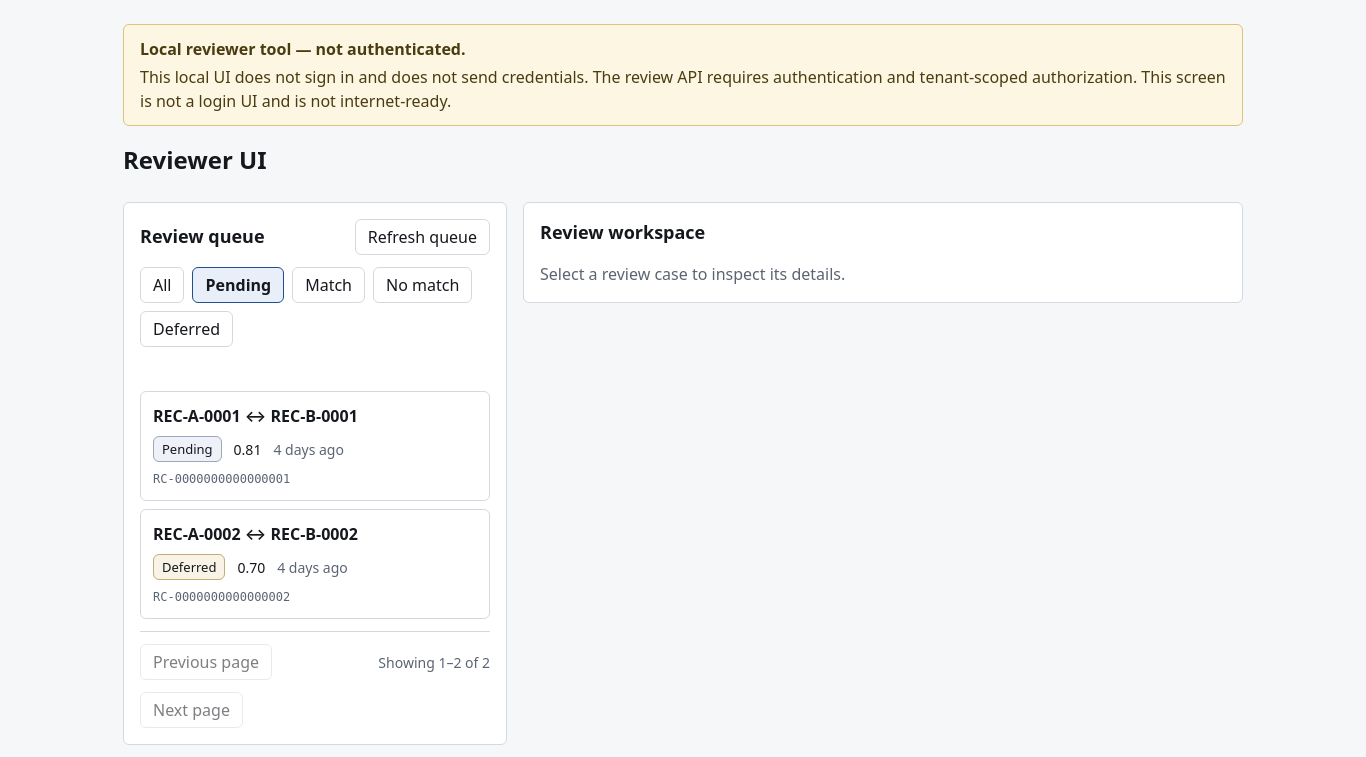
Test: selecting a case › replaces the workspace when another row is activated
Expected: the list is shown, [140, 391, 490, 619]
Click the button that starts with "REC-A-0001" at [315, 446], box [140, 391, 490, 501]
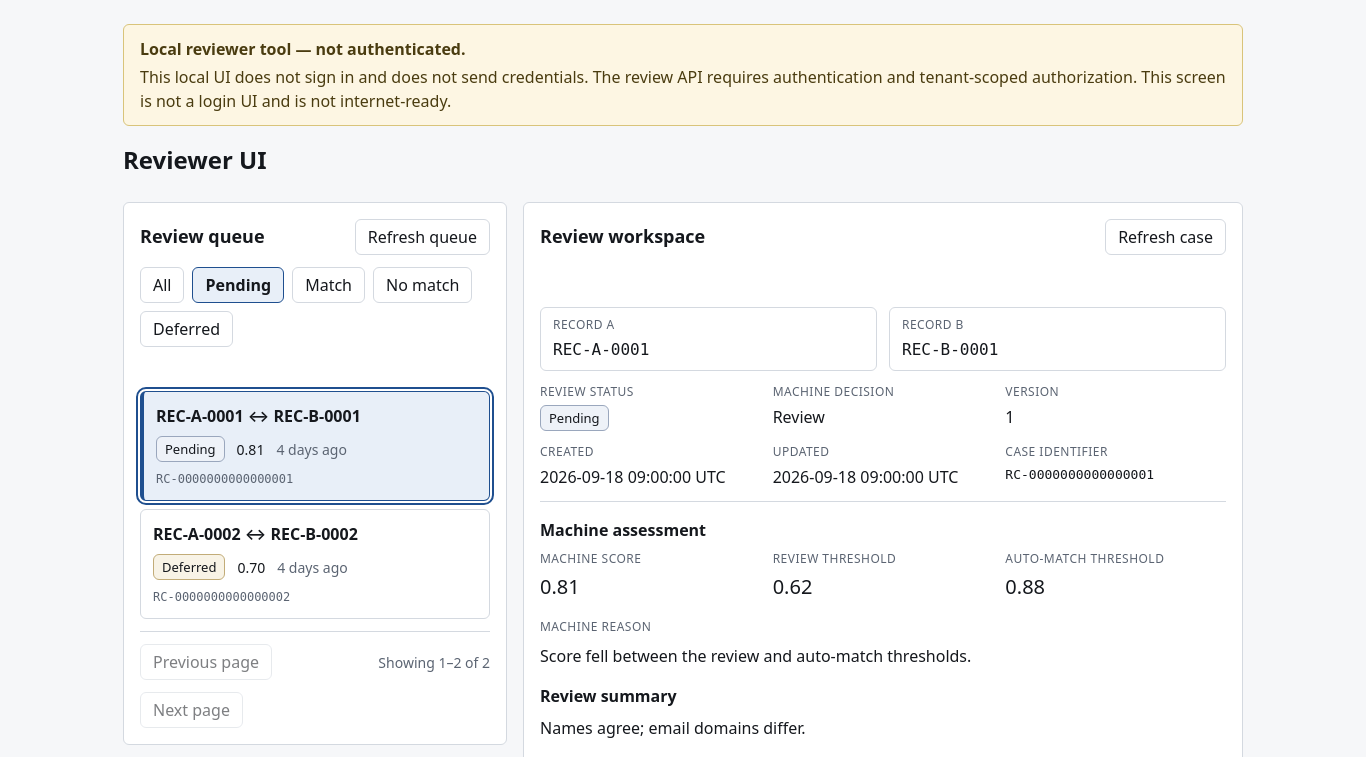
Now the heading "Machine assessment" is shown, box [540, 519, 706, 541]
Click the button that starts with "REC-A-0002" at [315, 564], box [140, 509, 490, 619]
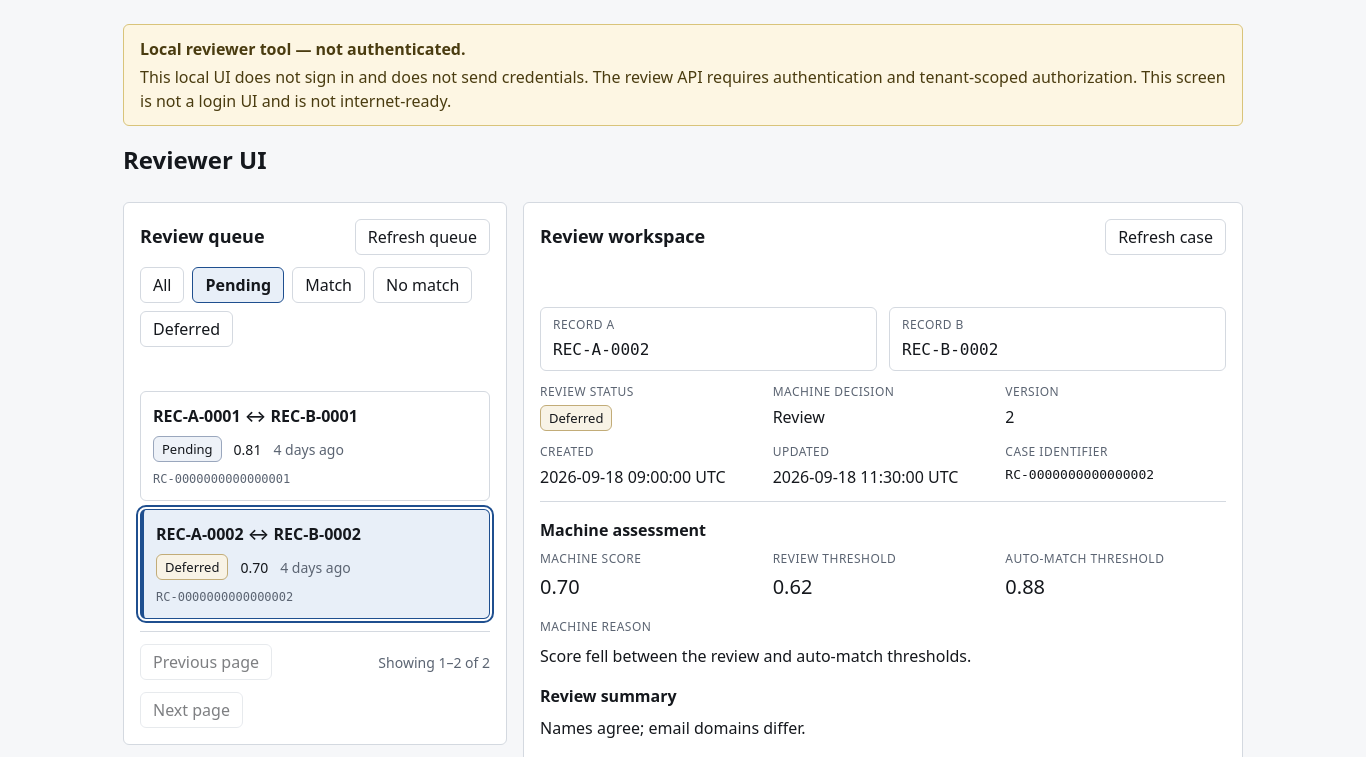
Now the text "REC-A-0002" is shown, box [553, 340, 649, 359]
